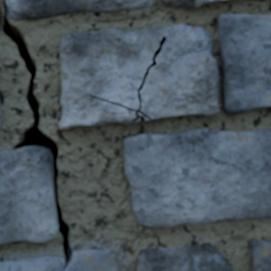brick: (59, 25, 218, 128), (123, 130, 270, 227), (0, 147, 56, 243), (218, 15, 270, 114), (4, 0, 152, 18), (136, 244, 230, 270), (248, 240, 270, 270), (163, 0, 220, 8), (0, 109, 2, 126)
broken_brick: (0, 248, 118, 270)
crack: (0, 2, 73, 268), (88, 35, 166, 123)
